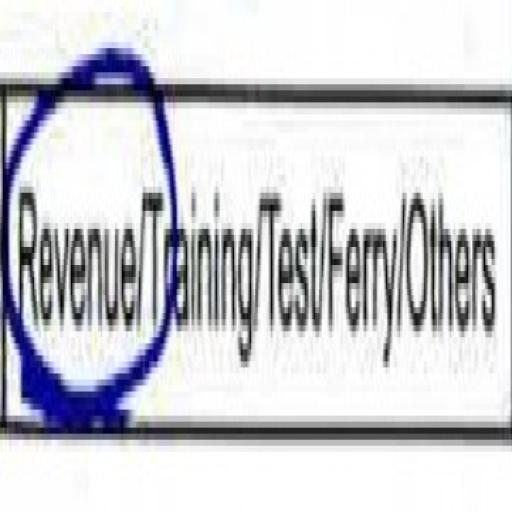check: (1, 0, 147, 512)
